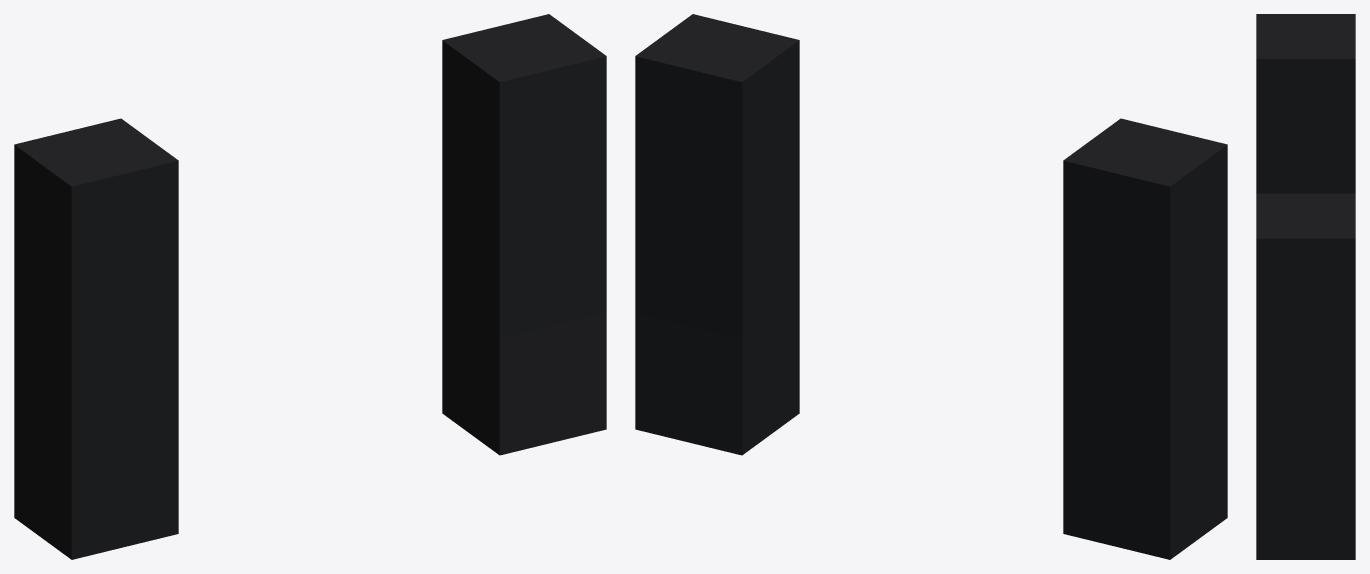
The model's file is Taiga12_Trigger.glb.
3 views of the same model, side by side, from view 1: azimuth 30°, elevation 25°; view 2: azimuth 150°, elevation 25°; view 3: azimuth 270°, elevation 25° (orthographic). The views are drawn at different scales.
Parts seen in each view (by area): view 1: Front trigger, Rear trigger; view 2: Front trigger, Rear trigger; view 3: Rear trigger, Front trigger.
Part boxes in pixels (x1=…): Front trigger: x1=14, y1=118, x2=178, y2=559; Rear trigger: x1=442, y1=14, x2=606, y2=455; Front trigger: x1=1063, y1=118, x2=1227, y2=559; Rear trigger: x1=635, y1=14, x2=799, y2=455; Rear trigger: x1=1256, y1=193, x2=1355, y2=559; Front trigger: x1=1256, y1=14, x2=1355, y2=193.
Bounding box in the file's own units: 0.03 × 0.02 × 0.0056.
1 material, 1 textured.
